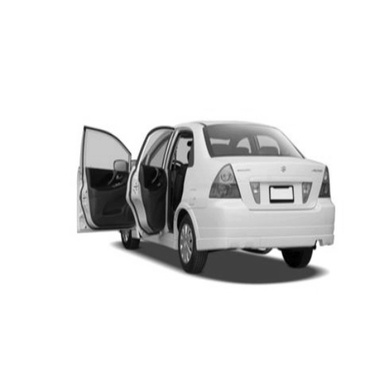car: (70, 118, 341, 284)
